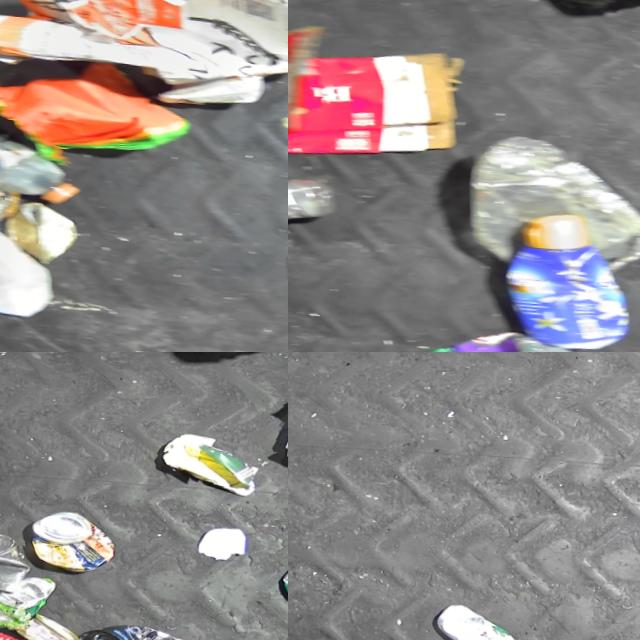can: (32, 502, 121, 569), (80, 612, 213, 640), (0, 567, 61, 626), (0, 519, 36, 591), (19, 605, 84, 640), (0, 173, 33, 222)
milk_jug: (0, 187, 72, 319)
non_white_jug: (496, 200, 640, 343)
plastic_bottle: (0, 94, 99, 203), (288, 159, 347, 243)
